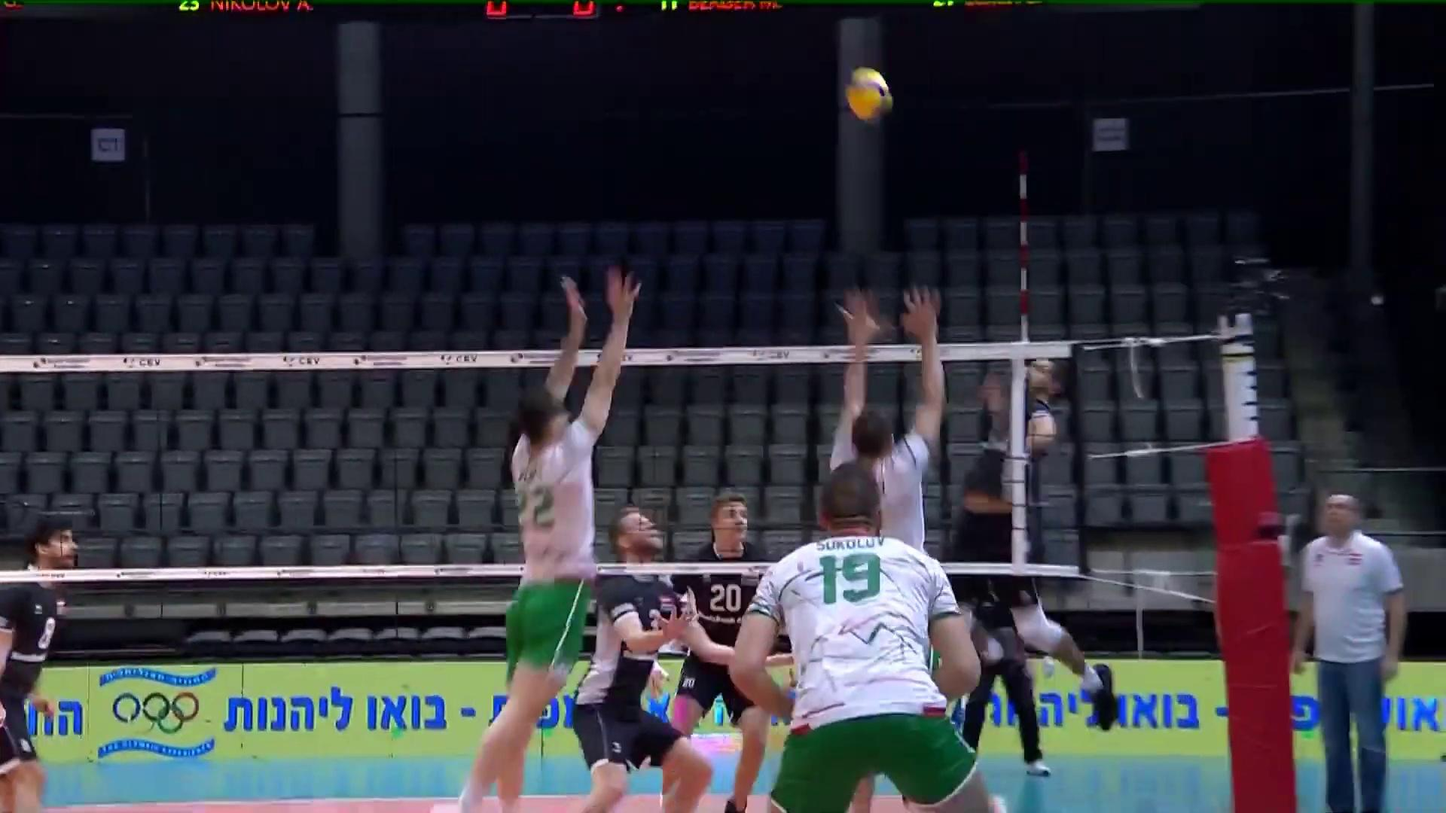ball: (842, 61, 896, 125)
